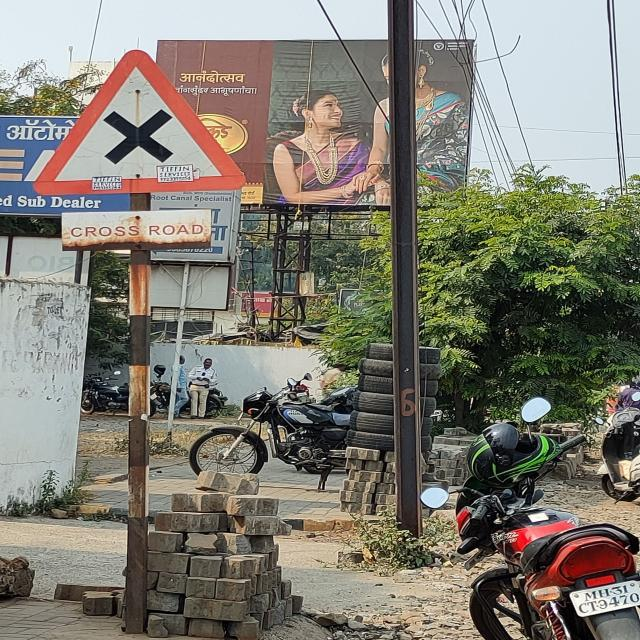cross road: (28, 47, 250, 195)
